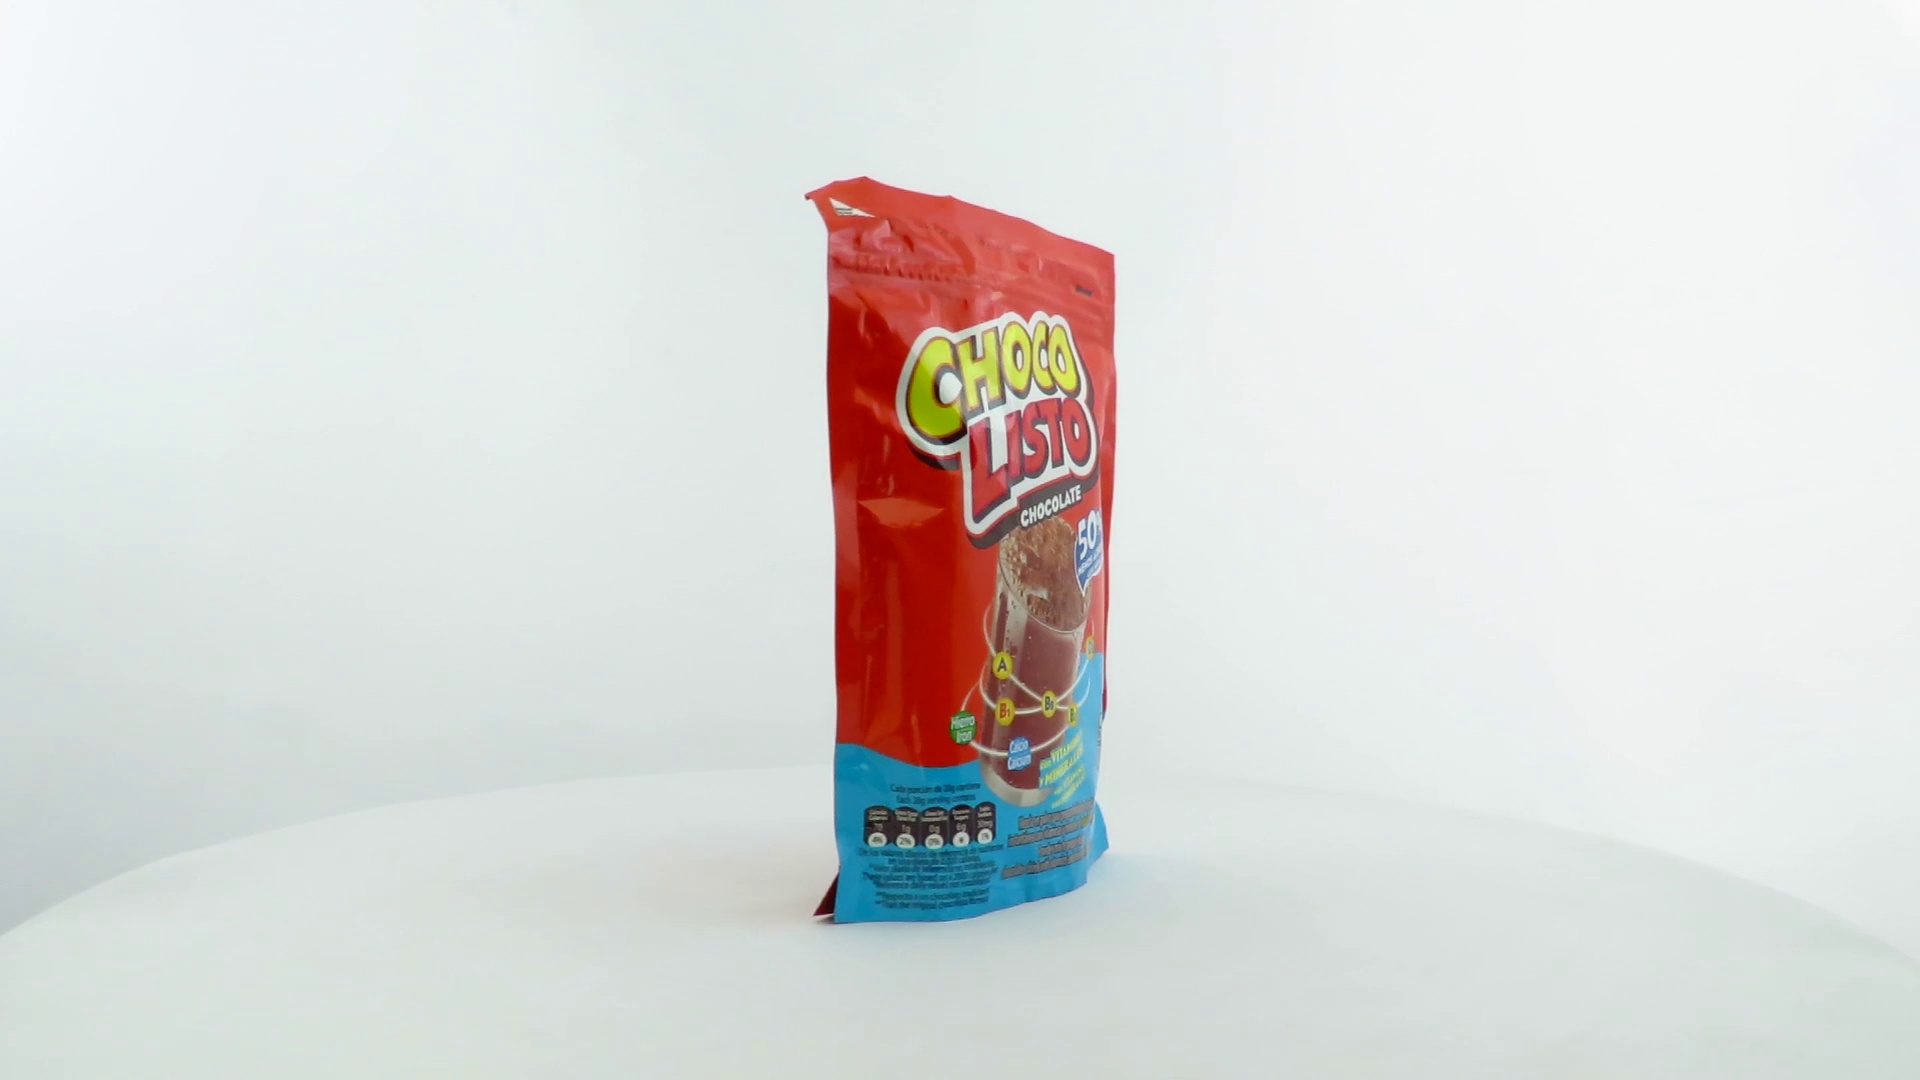COL0170104DYP20000: (799, 171, 1124, 931)
